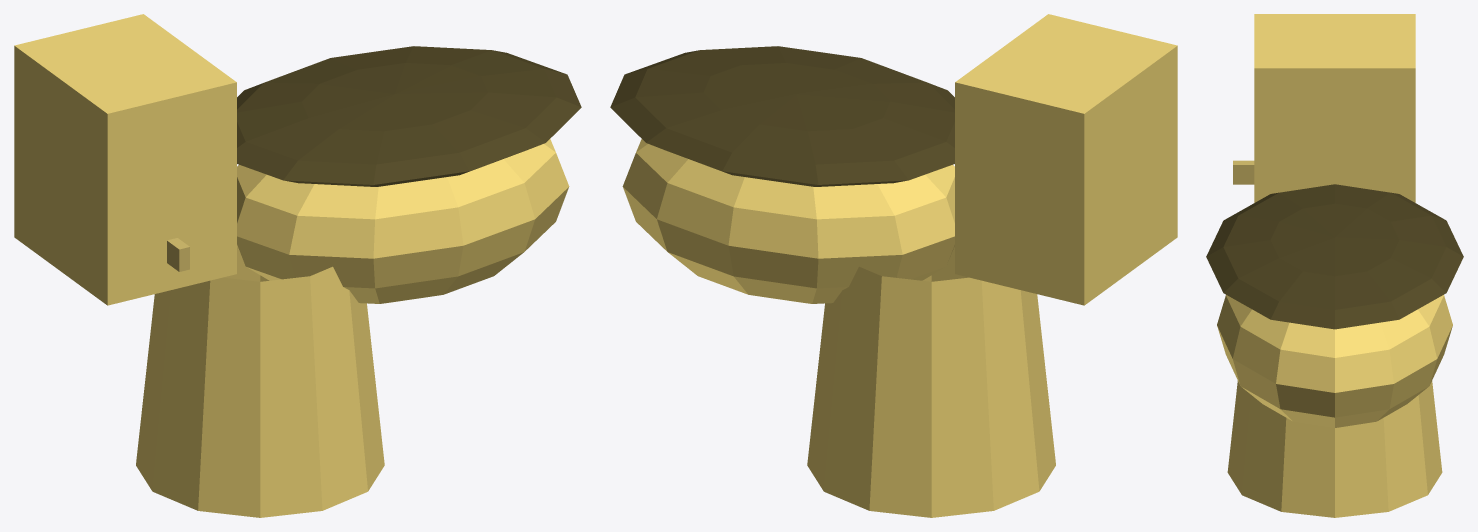
The model's file is toilet-gold.glb.
3 renders of one model, left to right at view 1: azimuth 30°, elevation 25°; view 2: azimuth 150°, elevation 25°; view 3: azimuth 270°, elevation 25°, orthographic. The views are drawn at different scales.
Visible parts, largest first — view 1: toilet; view 2: toilet; view 3: toilet.
Part boxes in pixels (<box>): toilet: <box>14,14,581,517</box>; toilet: <box>610,14,1177,517</box>; toilet: <box>1206,14,1463,517</box>.
Size of the model in its own units: 15 by 12.29 by 7.66.
